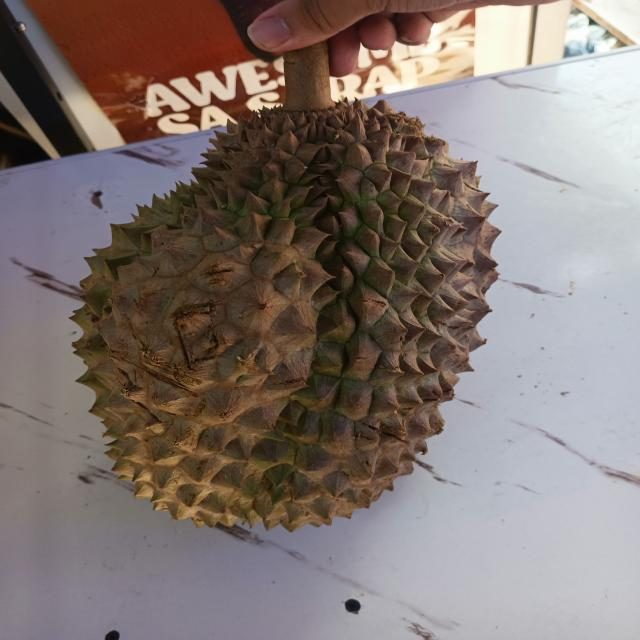mature: (74, 101, 499, 542)
